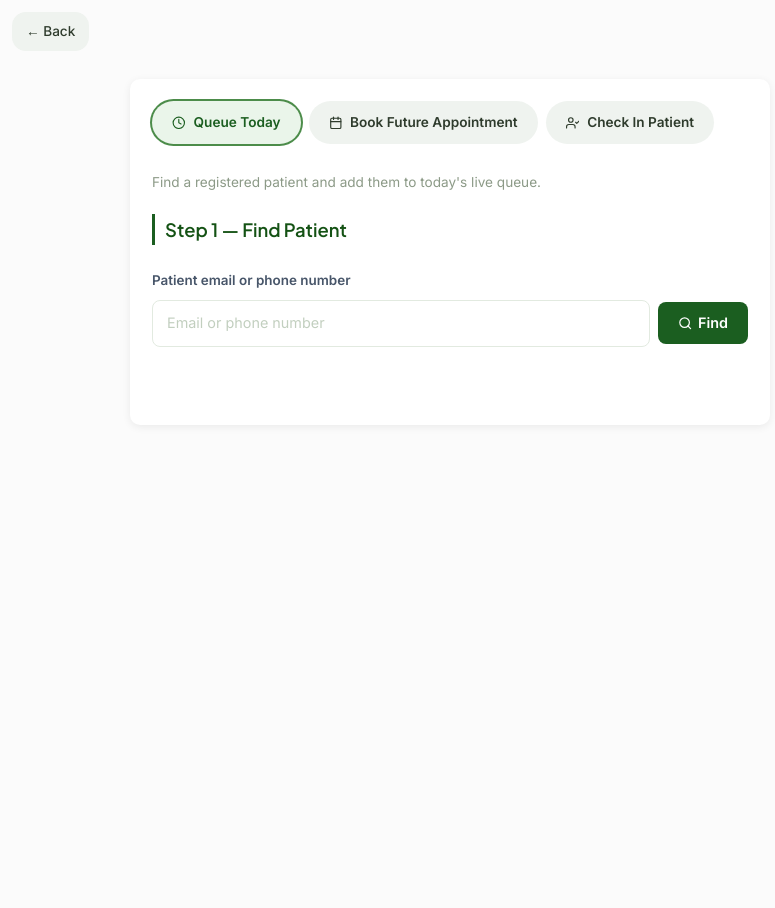
Test: Queue Today › enables submit after slot select
In the field with placeholder "Email or phone number": x=401, y=323 x1=152 y1=300 x2=650 y2=347, type "john@example.com"
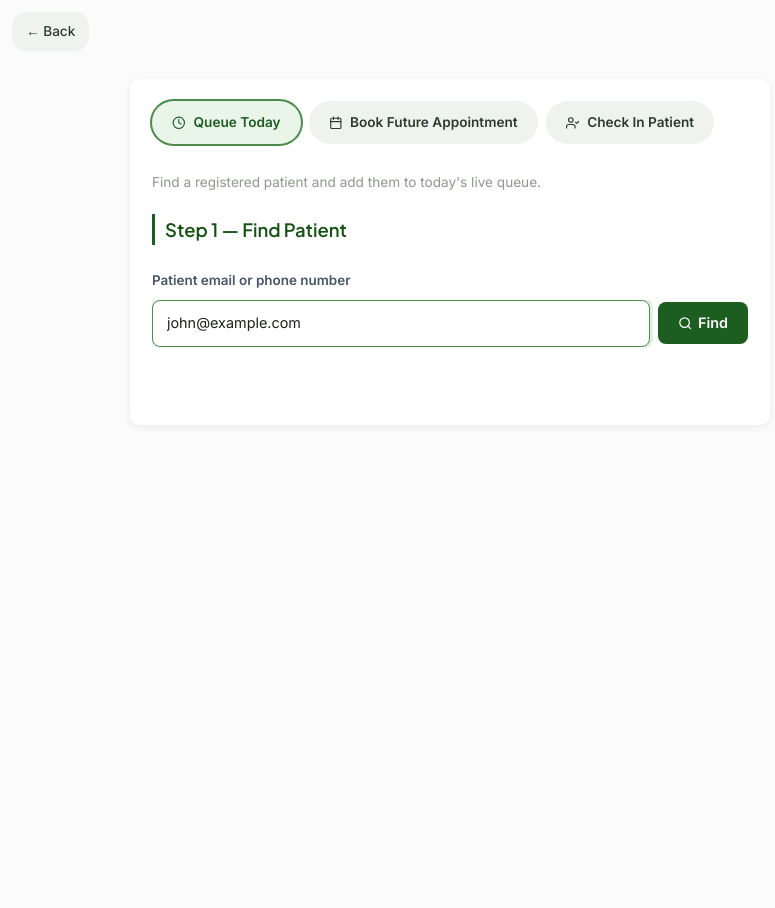
Click the button "Find": x=703, y=323 x1=658 y1=302 x2=748 y2=344
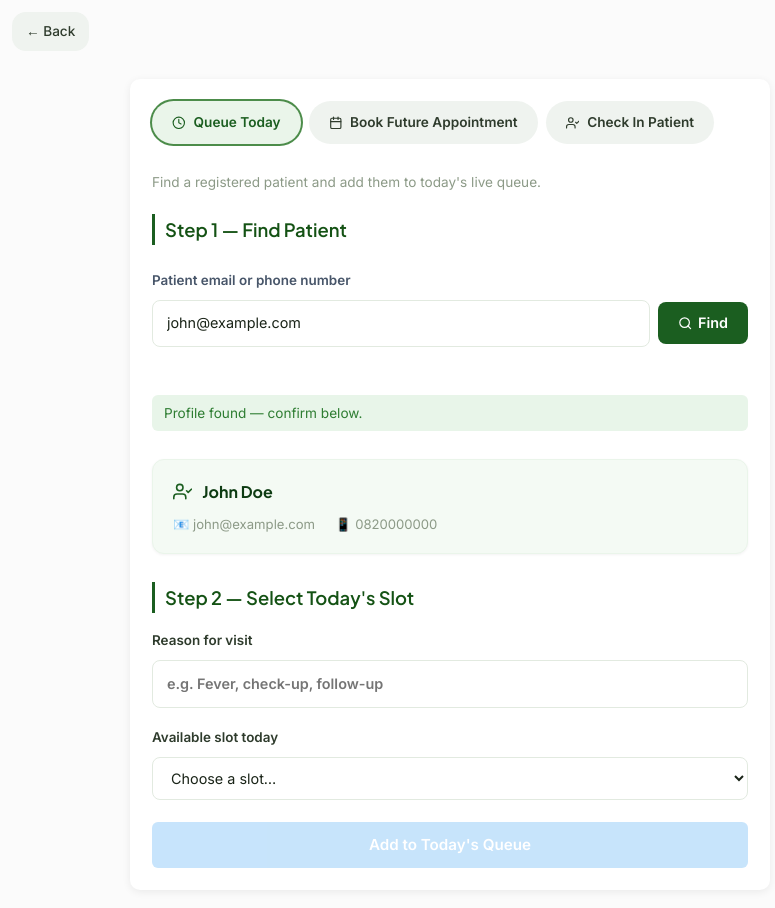
Expected: the text "Profile found — confirm below." is shown, x1=152 y1=394 x2=748 y2=431
Select "21 May 2026 — 23:59 (3 available)" in the dropdown: x=450, y=779 x1=152 y1=757 x2=748 y2=800
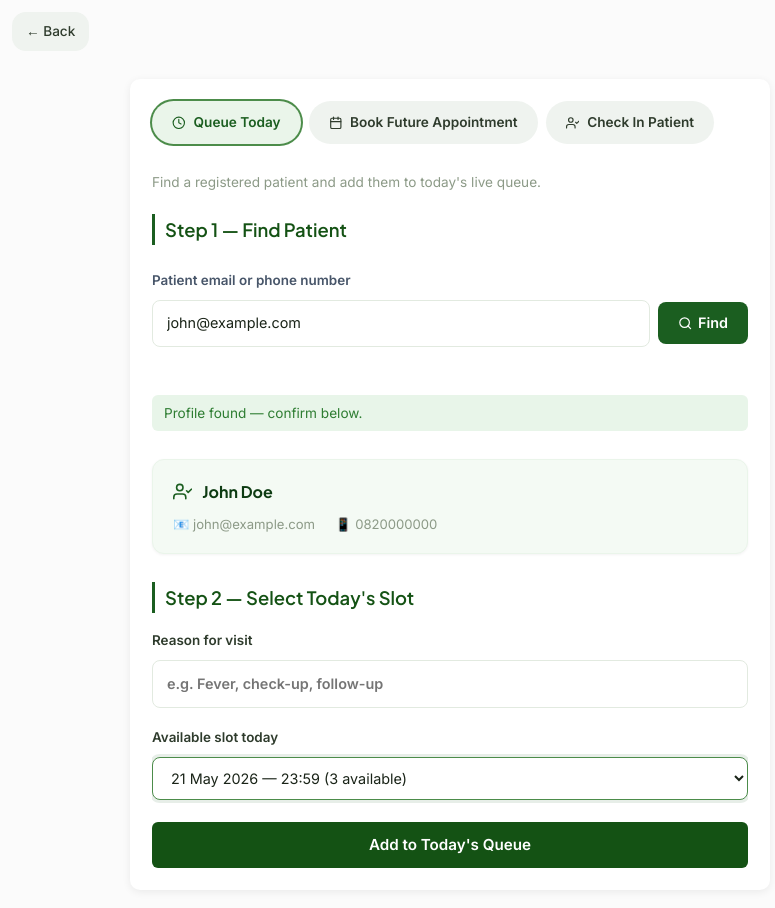
Expected: the button "Add to Today's Queue" is enabled, x1=152 y1=822 x2=748 y2=868
